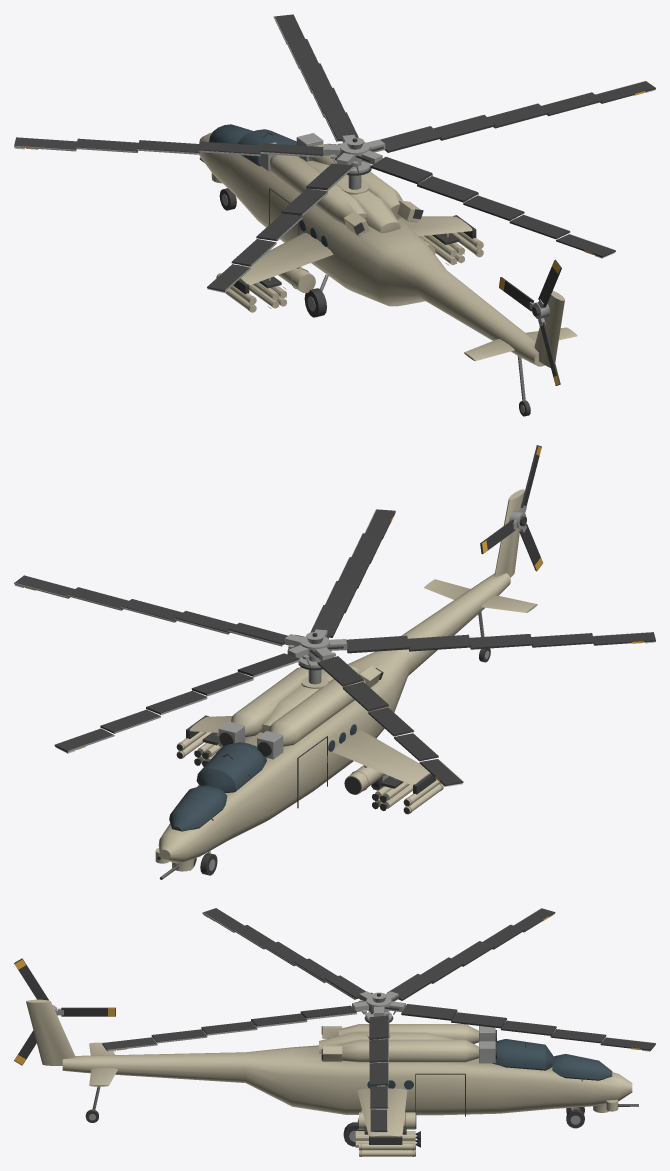
Rendered from rus_heli_mi35.glb.
3 views of the same model, one above another, from view 1: azimuth 30°, elevation 25°; view 2: azimuth 150°, elevation 25°; view 3: azimuth 270°, elevation 25° (orthographic). The views are drawn at different scales.
Visible parts, largest first — view 1: body, rotor, trotor; view 2: body, rotor, trotor; view 3: body, rotor, trotor.
Part boxes in pixels (x1,y1,x2,y2): body: (199,124,577,416); rotor: (14,14,655,292); trotor: (499,259,561,385); body: (155,489,537,879); rotor: (14,509,655,786); trotor: (480,445,542,571); body: (26,999,638,1156); rotor: (102,908,655,1132); trotor: (14,958,115,1065).
Size of the model in its own units: 15.81 by 5.31 by 19.27.
